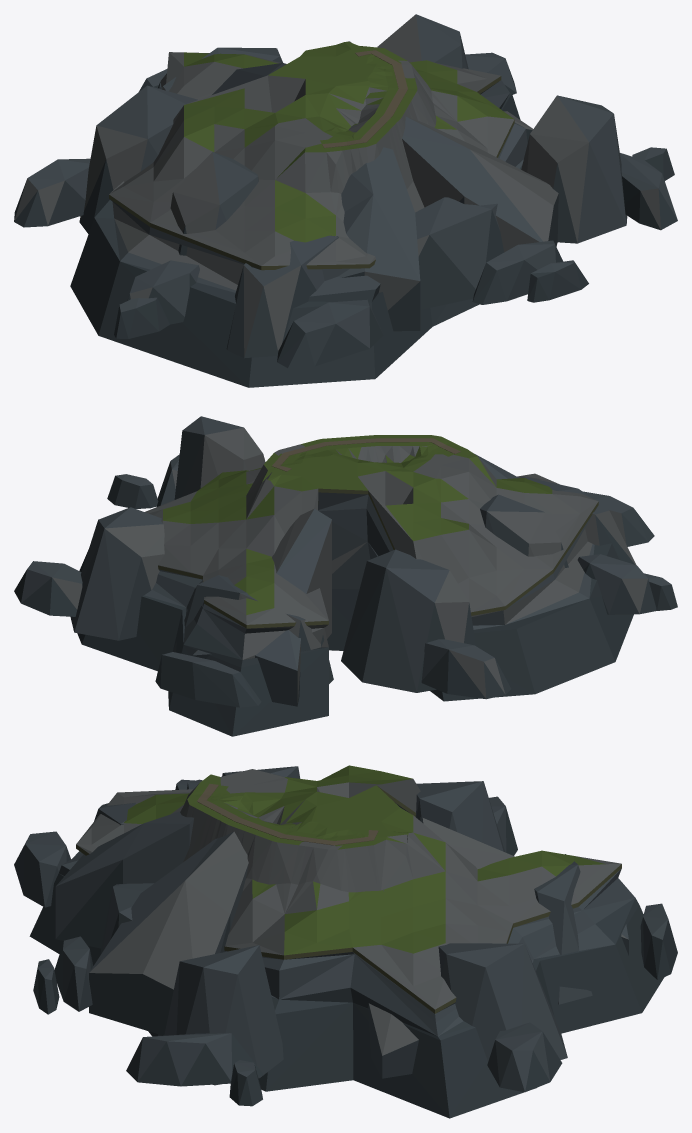
Rendered from island_c.glb.
The picture shows the model from 3 angles, top to bottom: view 1: azimuth 30°, elevation 25°; view 2: azimuth 150°, elevation 25°; view 3: azimuth 270°, elevation 25°; orthographic projection. The views are drawn at different scales.
Visible parts, largest first — view 1: island_c_Coast blue grey bedrock, island_c_Coast short olive grass, island_c_Coast weathered stone footpath; view 2: island_c_Coast blue grey bedrock, island_c_Coast short olive grass, island_c_Coast weathered stone footpath; view 3: island_c_Coast blue grey bedrock, island_c_Coast short olive grass, island_c_Coast weathered stone footpath.
Boxes of the visible parts, x1,y1,x2,y2 form: island_c_Coast blue grey bedrock: (14,14,677,387); island_c_Coast short olive grass: (109,41,514,270); island_c_Coast weathered stone footpath: (322,50,407,148); island_c_Coast blue grey bedrock: (14,416,677,736); island_c_Coast short olive grass: (145,435,598,628); island_c_Coast weathered stone footpath: (272,438,460,471); island_c_Coast blue grey bedrock: (14,766,677,1118); island_c_Coast short olive grass: (76,765,621,1013); island_c_Coast weathered stone footpath: (197,783,378,845).
Bounding box in the file's own units: 97.65 × 27.03 × 90.14.
